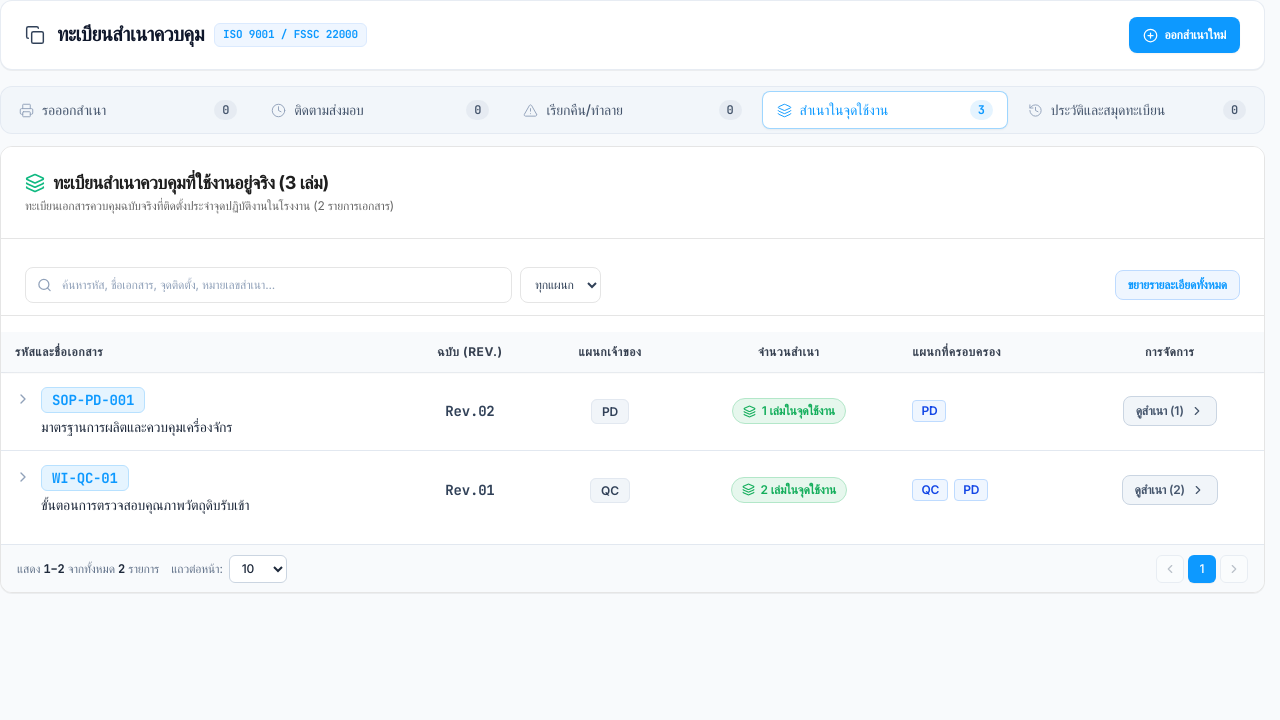
Test case: Controlled Copy Master-Detail Accordion & DocCode Resolution › 2. Master-Detail Accordion Table in Tab 4 › expands sub-table when clicking master row, displaying Copy 01 and Copy 02 details
This screenshot has width=1280, height=720.
Expected: the text "WI-QC-01" is shown, [52, 469, 118, 487]
Click the text "WI-QC-01": (632, 489) [1, 450, 1264, 528]
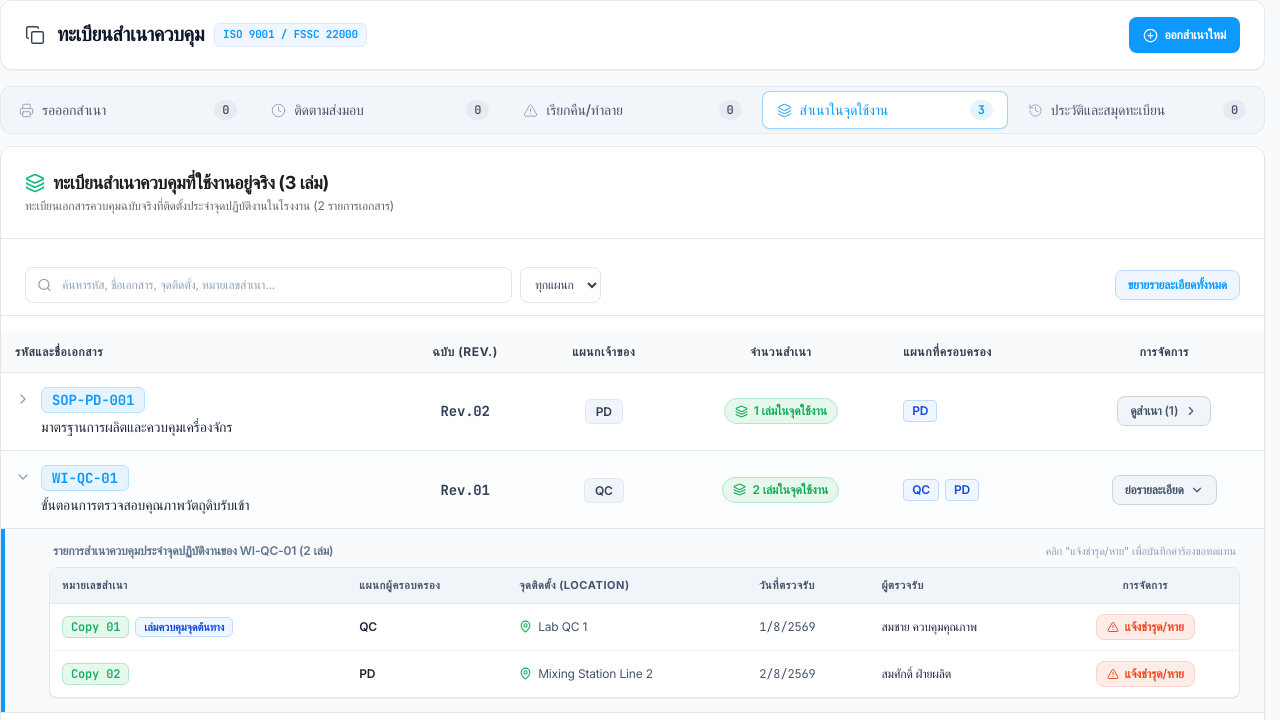
Expected: the text "Copy 01" is shown, [62, 616, 129, 638]
Expected: the text "Copy 02" is shown, [62, 663, 129, 685]
Expected: the text "เล่มควบคุมจุดต้นทาง" is shown, [135, 617, 233, 637]
// Clicking action button opens the report modal
Click the button titled "แจ้งชำรุด หรือสูญหาย" in the row of "เล่มควบคุมจุดต้นทาง": (1145, 627) [1096, 614, 1195, 640]
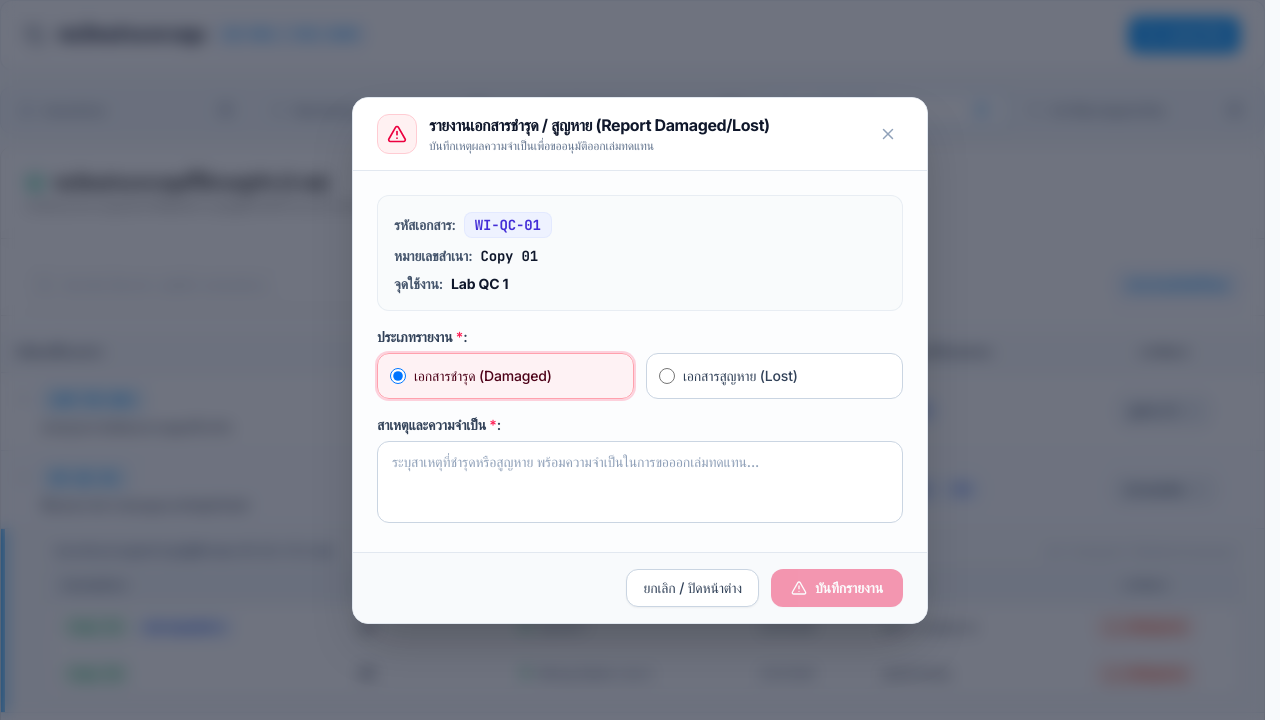
Expected: the heading "รายงานเอกสารชำรุด / สูญหาย (Report Damaged/Lost)" is shown, [429, 114, 770, 136]
